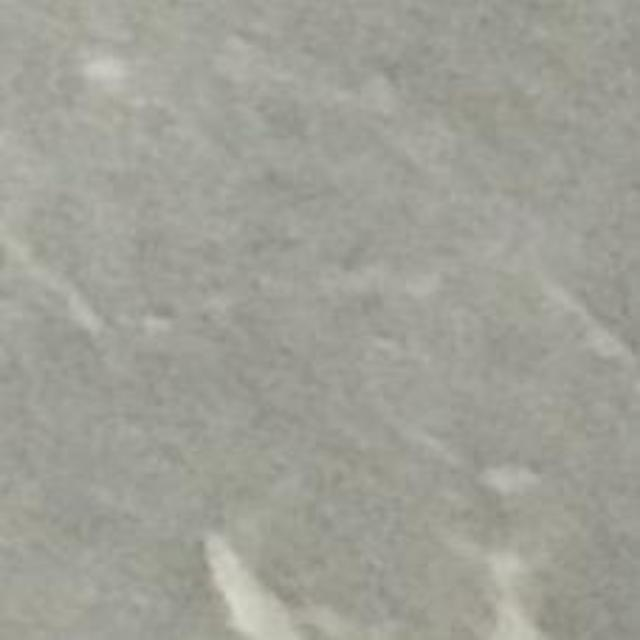peeling plaster: (203, 536, 338, 639)
